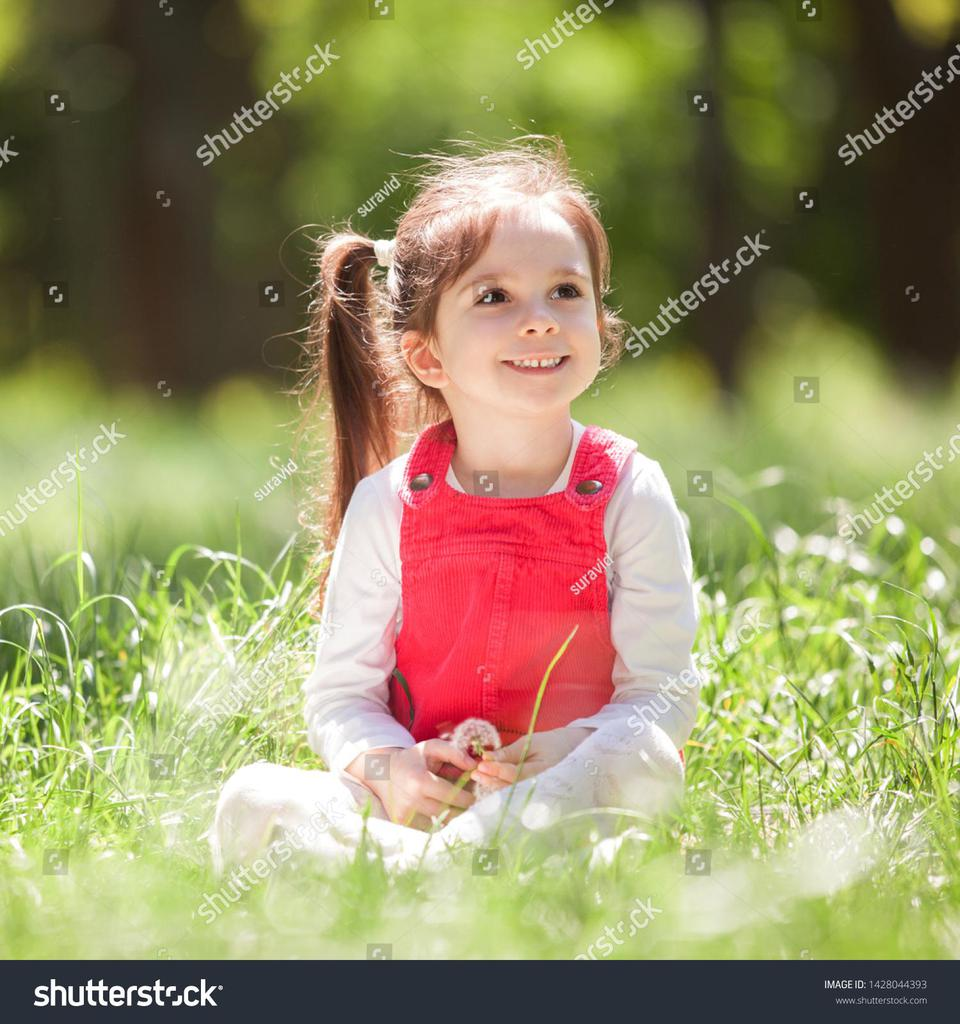child: (196, 127, 729, 902)
